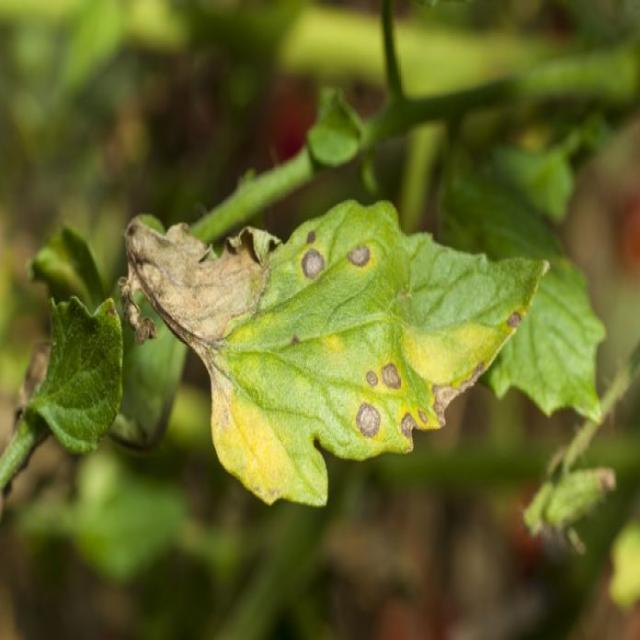Septoria: (350, 352, 422, 441), (295, 226, 375, 283)
